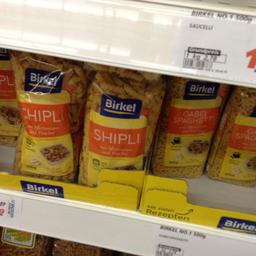pasta: (76, 74, 162, 185), (8, 52, 79, 178), (156, 77, 226, 176), (206, 86, 254, 184)
